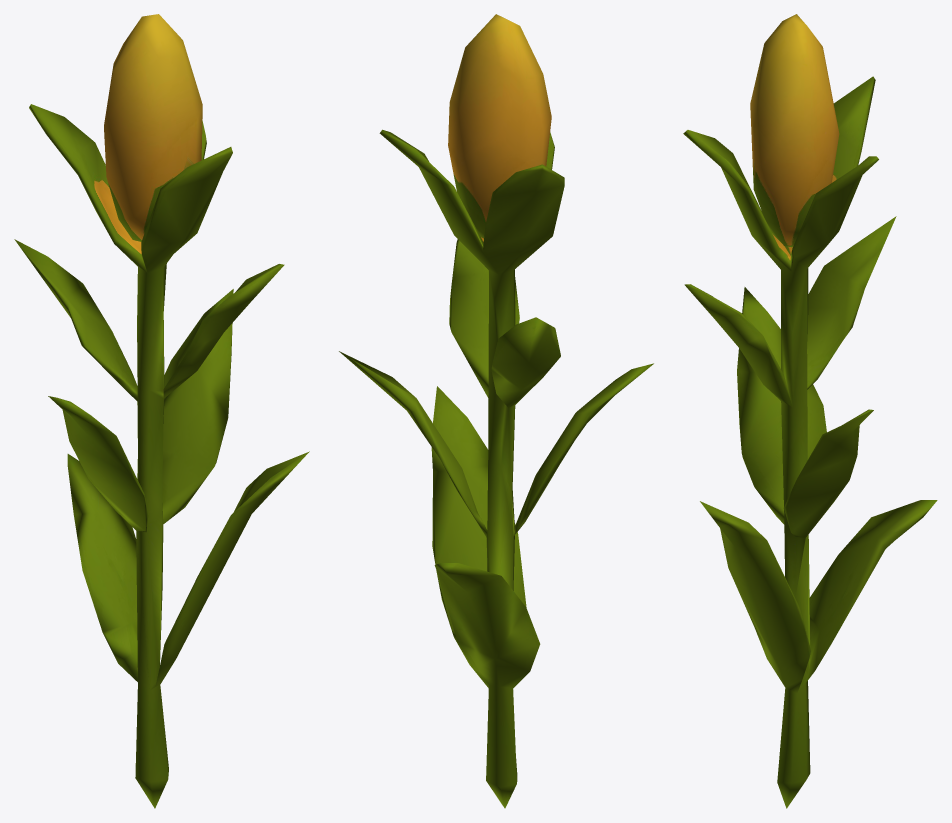
Rendered from corn+plant+3d+model.fbx.
The picture shows the model from 3 angles, left to right: view 1: azimuth 30°, elevation 25°; view 2: azimuth 150°, elevation 25°; view 3: azimuth 270°, elevation 25°; orthographic projection.
Visible parts, largest first — view 1: tripo_mesh_635f83fb-2a93-43d3-852a-447c6b410ac6; view 2: tripo_mesh_635f83fb-2a93-43d3-852a-447c6b410ac6; view 3: tripo_mesh_635f83fb-2a93-43d3-852a-447c6b410ac6.
Part boxes in pixels (bbox=[...]): tripo_mesh_635f83fb-2a93-43d3-852a-447c6b410ac6: bbox=[14, 14, 309, 808]; tripo_mesh_635f83fb-2a93-43d3-852a-447c6b410ac6: bbox=[339, 14, 653, 808]; tripo_mesh_635f83fb-2a93-43d3-852a-447c6b410ac6: bbox=[683, 14, 937, 808].
Size of the model in its own units: 0.3315 by 1 by 0.2918.
Materials: 1 (1 with a texture image).
